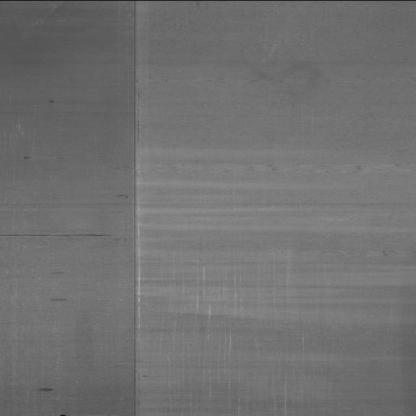welding_line: (122, 0, 152, 415)
